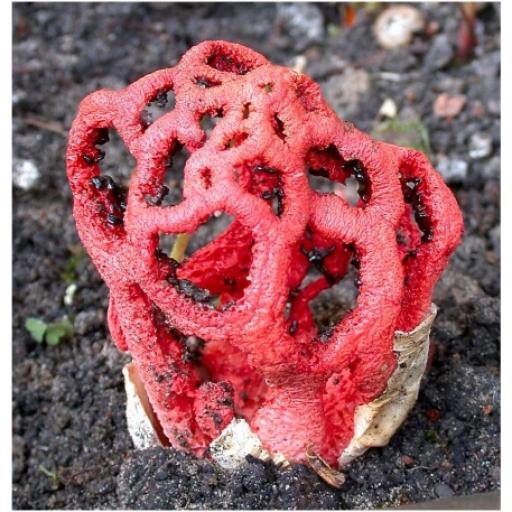Red Cage Fungus: (67, 40, 466, 462)
